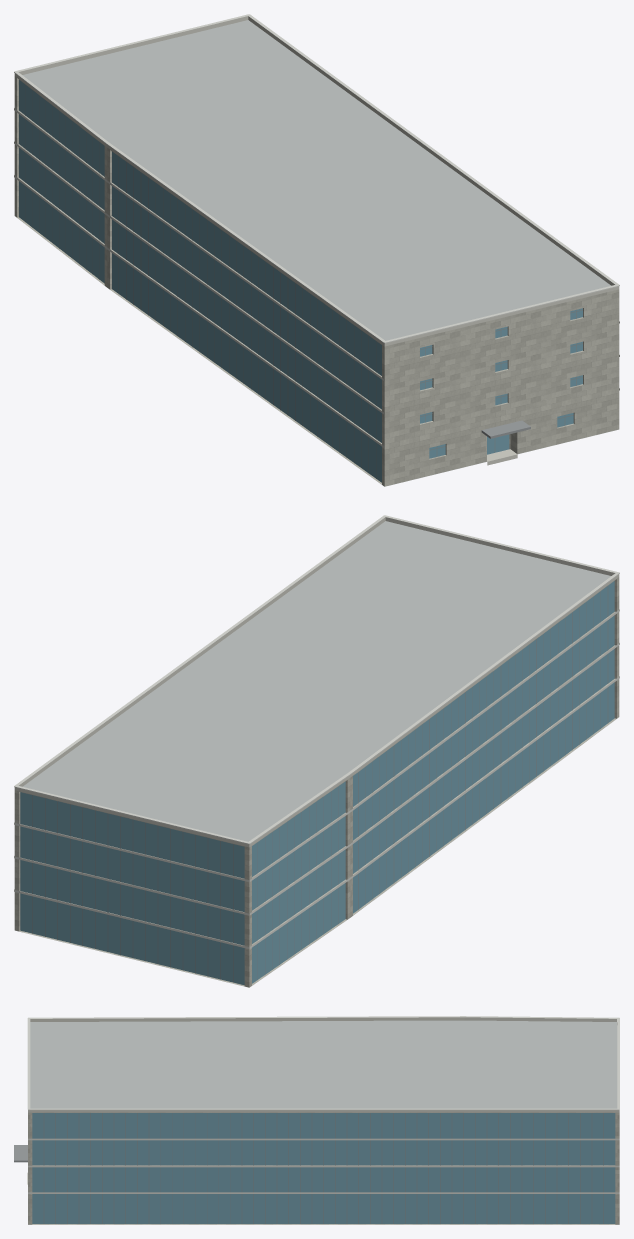
The picture shows the model from 3 angles, top to bottom: view 1: azimuth 30°, elevation 25°; view 2: azimuth 150°, elevation 25°; view 3: azimuth 270°, elevation 25°; orthographic projection. The views are drawn at different scales.
Visible parts, largest first — view 1: unist-batch-b203__parapet, b203__glass, b203__wall, b203__trim, b203__frame; view 2: unist-batch-b203__parapet, b203__glass, b203__frame, b203__trim, b203__wall; view 3: b203__glass, unist-batch-b203__parapet, b203__trim, b203__frame, b203__wall.
Boxes of the visible parts, box(x1,y1,x2,y2) form: unist-batch-b203__parapet: box(14, 16, 619, 486); b203__glass: box(19, 80, 582, 482); b203__wall: box(14, 76, 619, 486); b203__trim: box(14, 14, 619, 447); b203__frame: box(25, 85, 582, 478); unist-batch-b203__parapet: box(14, 517, 619, 987); b203__glass: box(20, 581, 614, 985); b203__frame: box(32, 586, 608, 982); b203__trim: box(14, 515, 619, 948); b203__wall: box(14, 577, 619, 987); b203__glass: box(32, 1113, 615, 1223); unist-batch-b203__parapet: box(28, 1017, 619, 1224); b203__trim: box(27, 1016, 619, 1193); b203__frame: box(43, 1113, 603, 1223); b203__wall: box(28, 1112, 619, 1224).
Bounding box in the file's own units: 28.5 × 16.75 × 77.98.
7 materials, 1 textured.
